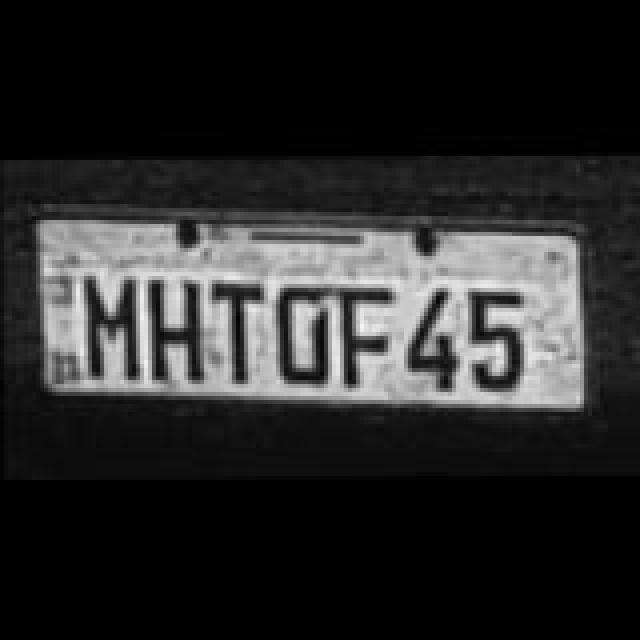4: (400, 290, 468, 394)
5: (464, 290, 532, 394)
D: (272, 282, 340, 386)
F: (336, 288, 404, 388)
H: (138, 276, 210, 384)
M: (72, 272, 148, 384)
T: (204, 282, 272, 386)
